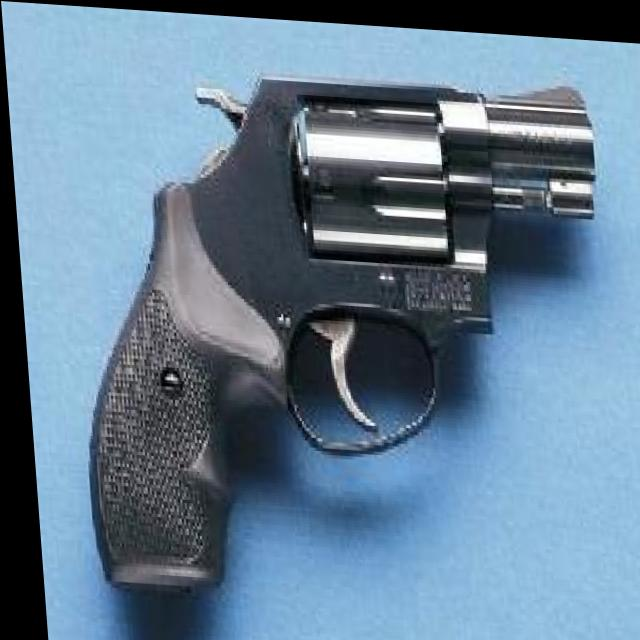handgun: (58, 38, 621, 619)
